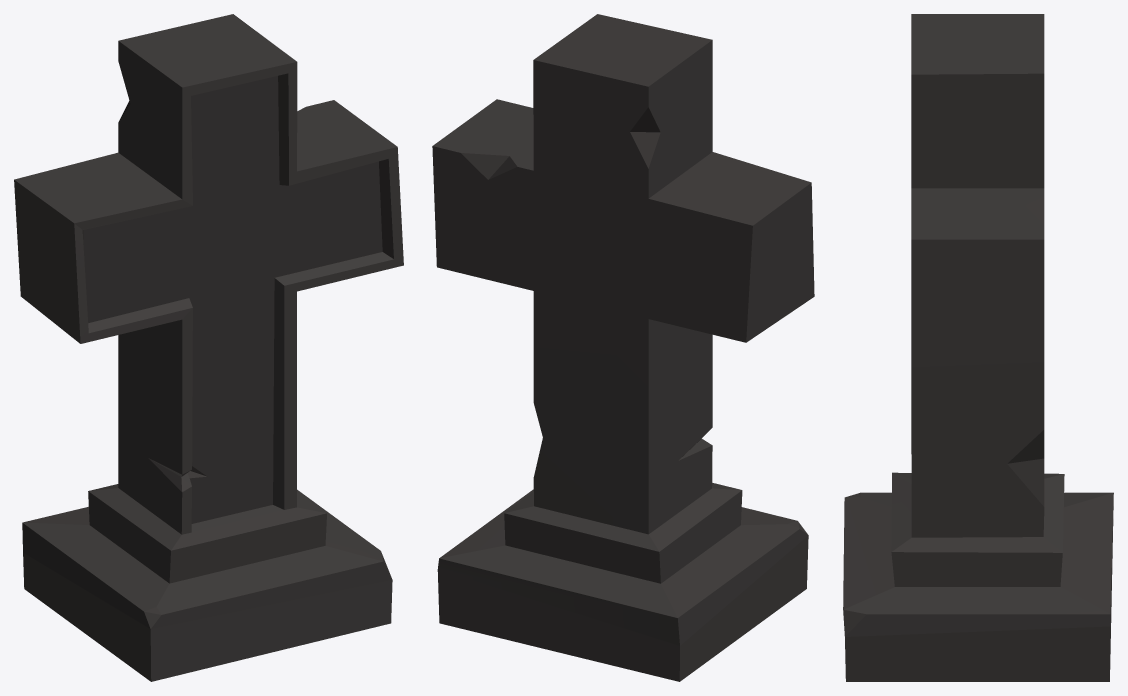
The model's file is TombOne.fbx.
3 renders of one model, left to right at view 1: azimuth 30°, elevation 25°; view 2: azimuth 150°, elevation 25°; view 3: azimuth 270°, elevation 25°, orthographic. The views are drawn at different scales.
Visible parts, largest first — view 1: gravestone_old_cross__1_; view 2: gravestone_old_cross__1_; view 3: gravestone_old_cross__1_.
Part boxes in pixels (bbox=[...]): gravestone_old_cross__1_: bbox=[14, 14, 403, 681]; gravestone_old_cross__1_: bbox=[432, 14, 814, 681]; gravestone_old_cross__1_: bbox=[843, 14, 1113, 681].
Bounding box in the file's own units: 1884 × 3071 × 1304.
